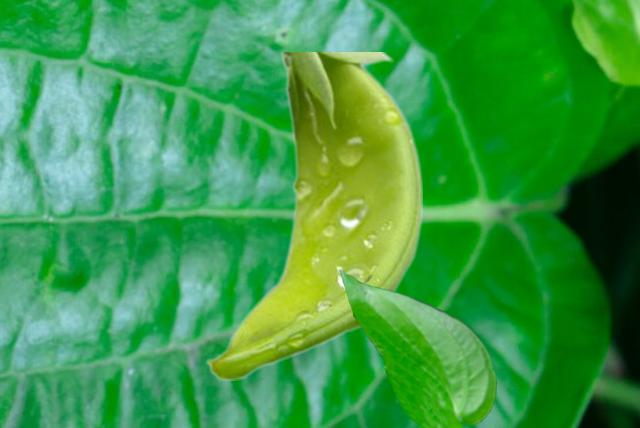pea: (204, 52, 421, 379)
